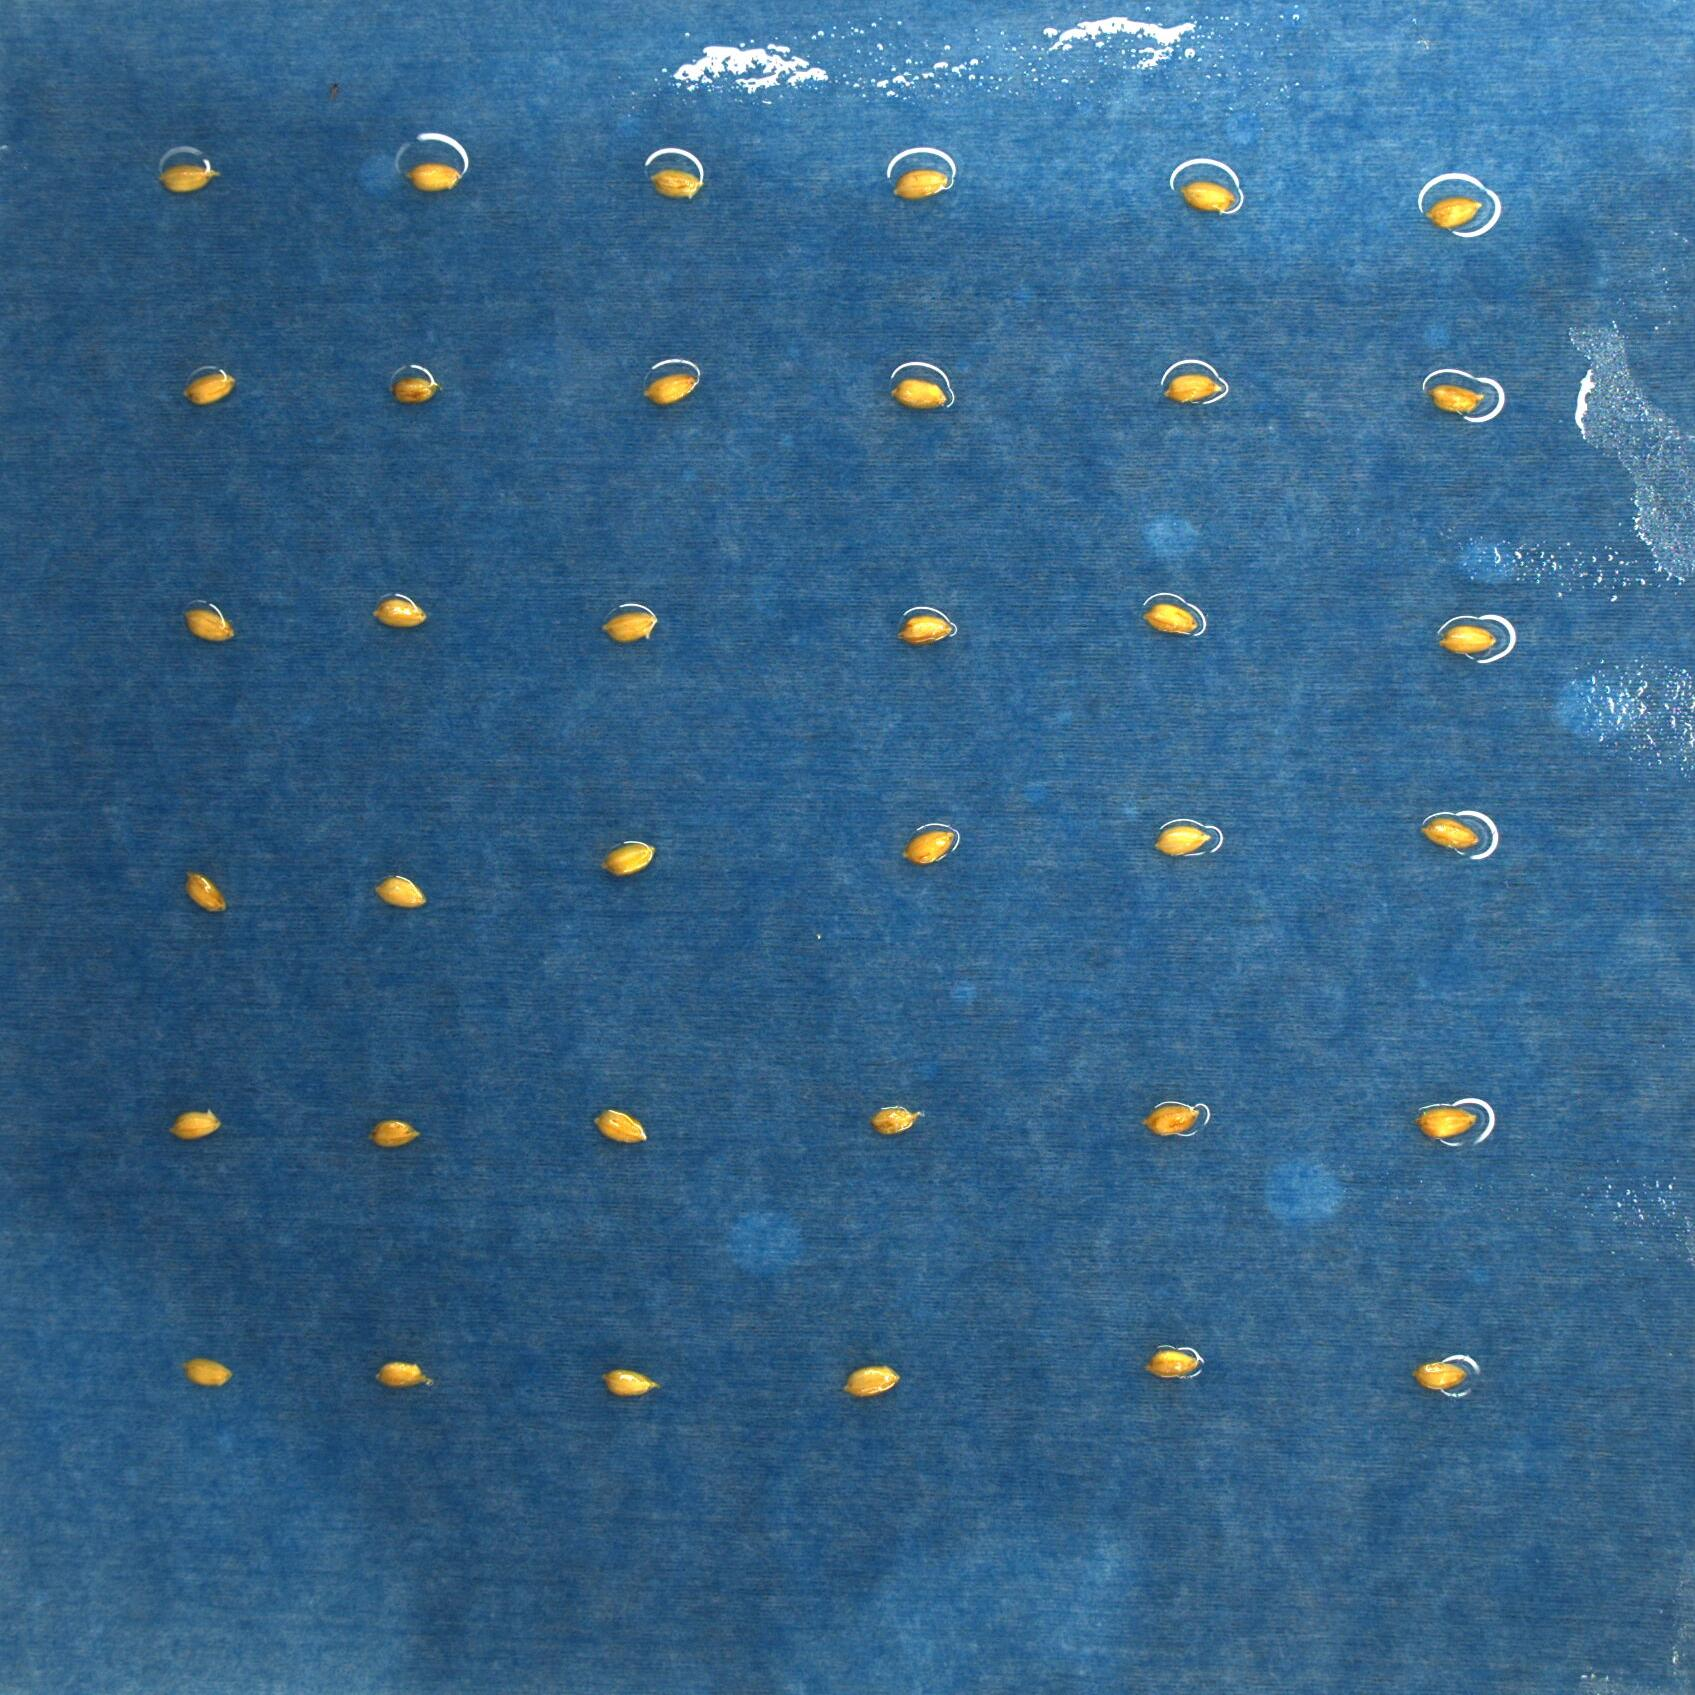not sprout: (1431, 369, 1489, 425), (1149, 821, 1217, 868), (1419, 812, 1482, 861), (886, 160, 951, 205), (841, 1361, 906, 1406), (594, 1361, 666, 1402), (1406, 1352, 1473, 1394), (1416, 1101, 1478, 1146), (1146, 601, 1205, 646), (899, 826, 958, 869), (591, 1104, 650, 1147), (594, 834, 650, 879), (647, 160, 709, 200), (366, 1111, 428, 1152), (900, 607, 958, 650), (1419, 189, 1478, 230), (638, 369, 702, 407), (1437, 619, 1498, 658), (158, 157, 224, 192), (390, 363, 442, 407), (1146, 1346, 1205, 1385), (893, 366, 947, 408), (373, 588, 428, 629), (598, 602, 655, 641), (1178, 175, 1232, 216), (180, 601, 234, 641), (1146, 1104, 1208, 1138), (1164, 369, 1225, 404), (408, 158, 456, 199), (185, 366, 233, 407), (376, 874, 425, 913), (869, 1105, 927, 1138), (371, 1360, 428, 1391), (186, 863, 222, 913), (172, 1107, 220, 1142), (185, 1357, 231, 1391)
